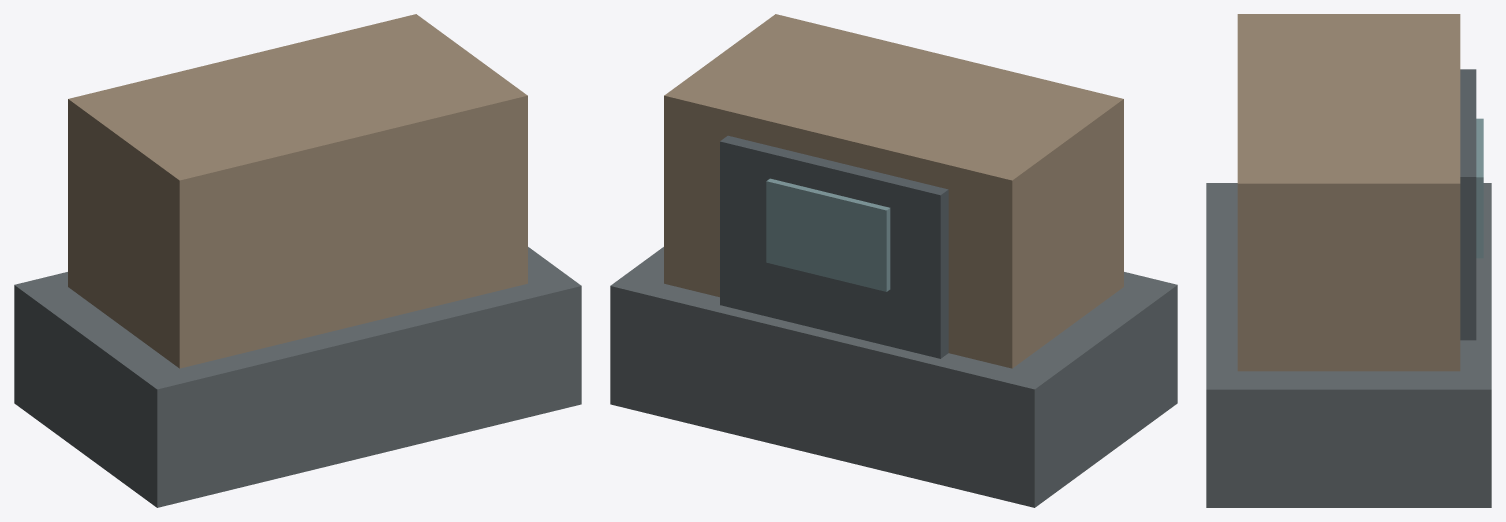
The model's file is iz3_health_instrument_02.glb.
The picture shows the model from 3 angles, left to right: view 1: azimuth 30°, elevation 25°; view 2: azimuth 150°, elevation 25°; view 3: azimuth 270°, elevation 25°; orthographic projection.
Parts seen in each view (by area): view 1: cabinet, base; view 2: cabinet, base, panel, display; view 3: cabinet, base, panel, display.
Boxes of the visible parts, x1,y1,x2,y2 form: cabinet: [68, 14, 527, 368]; base: [14, 247, 581, 507]; cabinet: [664, 14, 1123, 368]; base: [610, 247, 1177, 507]; panel: [720, 135, 948, 358]; display: [766, 178, 890, 291]; cabinet: [1237, 14, 1460, 371]; base: [1206, 183, 1491, 507]; panel: [1460, 69, 1476, 340]; display: [1476, 118, 1483, 258].
Size of the model in its own units: 1.2 by 0.828 by 0.7.
